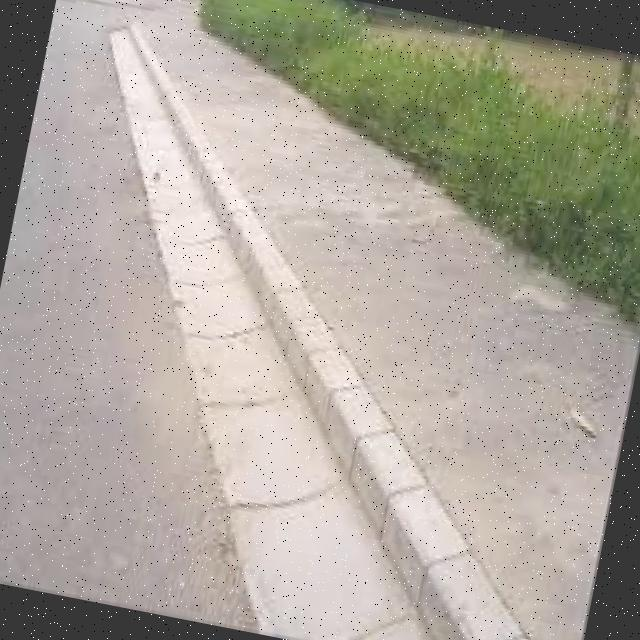curb: (271, 337, 456, 538), (190, 198, 361, 380), (366, 509, 600, 640), (142, 102, 262, 228), (115, 25, 190, 107)
